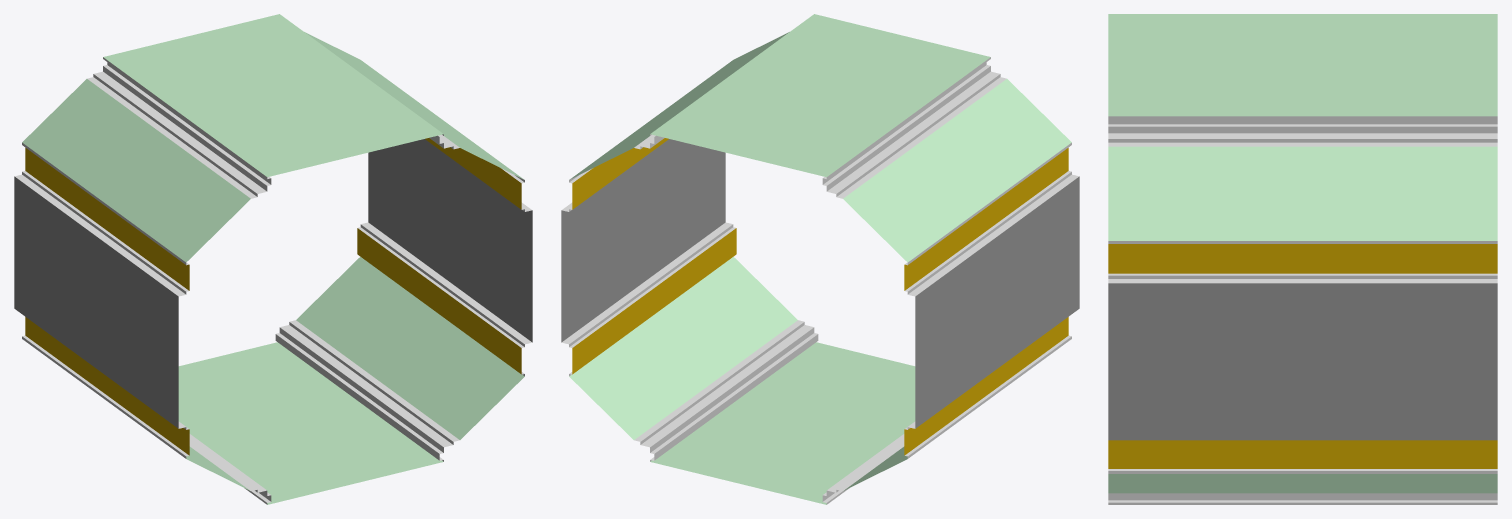
Rendered from Box Middle 4m.fbx.
3 views of the same model, side by side, from view 1: azimuth 30°, elevation 25°; view 2: azimuth 150°, elevation 25°; view 3: azimuth 270°, elevation 25° (orthographic). The views are drawn at different scales.
Visible parts, largest first — view 1: Cube.001; view 2: Cube.001; view 3: Cube.001.
Boxes of the visible parts, box(x1,y1,x2,y2) form: Cube.001: box(14, 14, 532, 504); Cube.001: box(561, 14, 1079, 504); Cube.001: box(1108, 14, 1497, 504).
Bounding box in the file's own units: 498 × 440 × 400.
